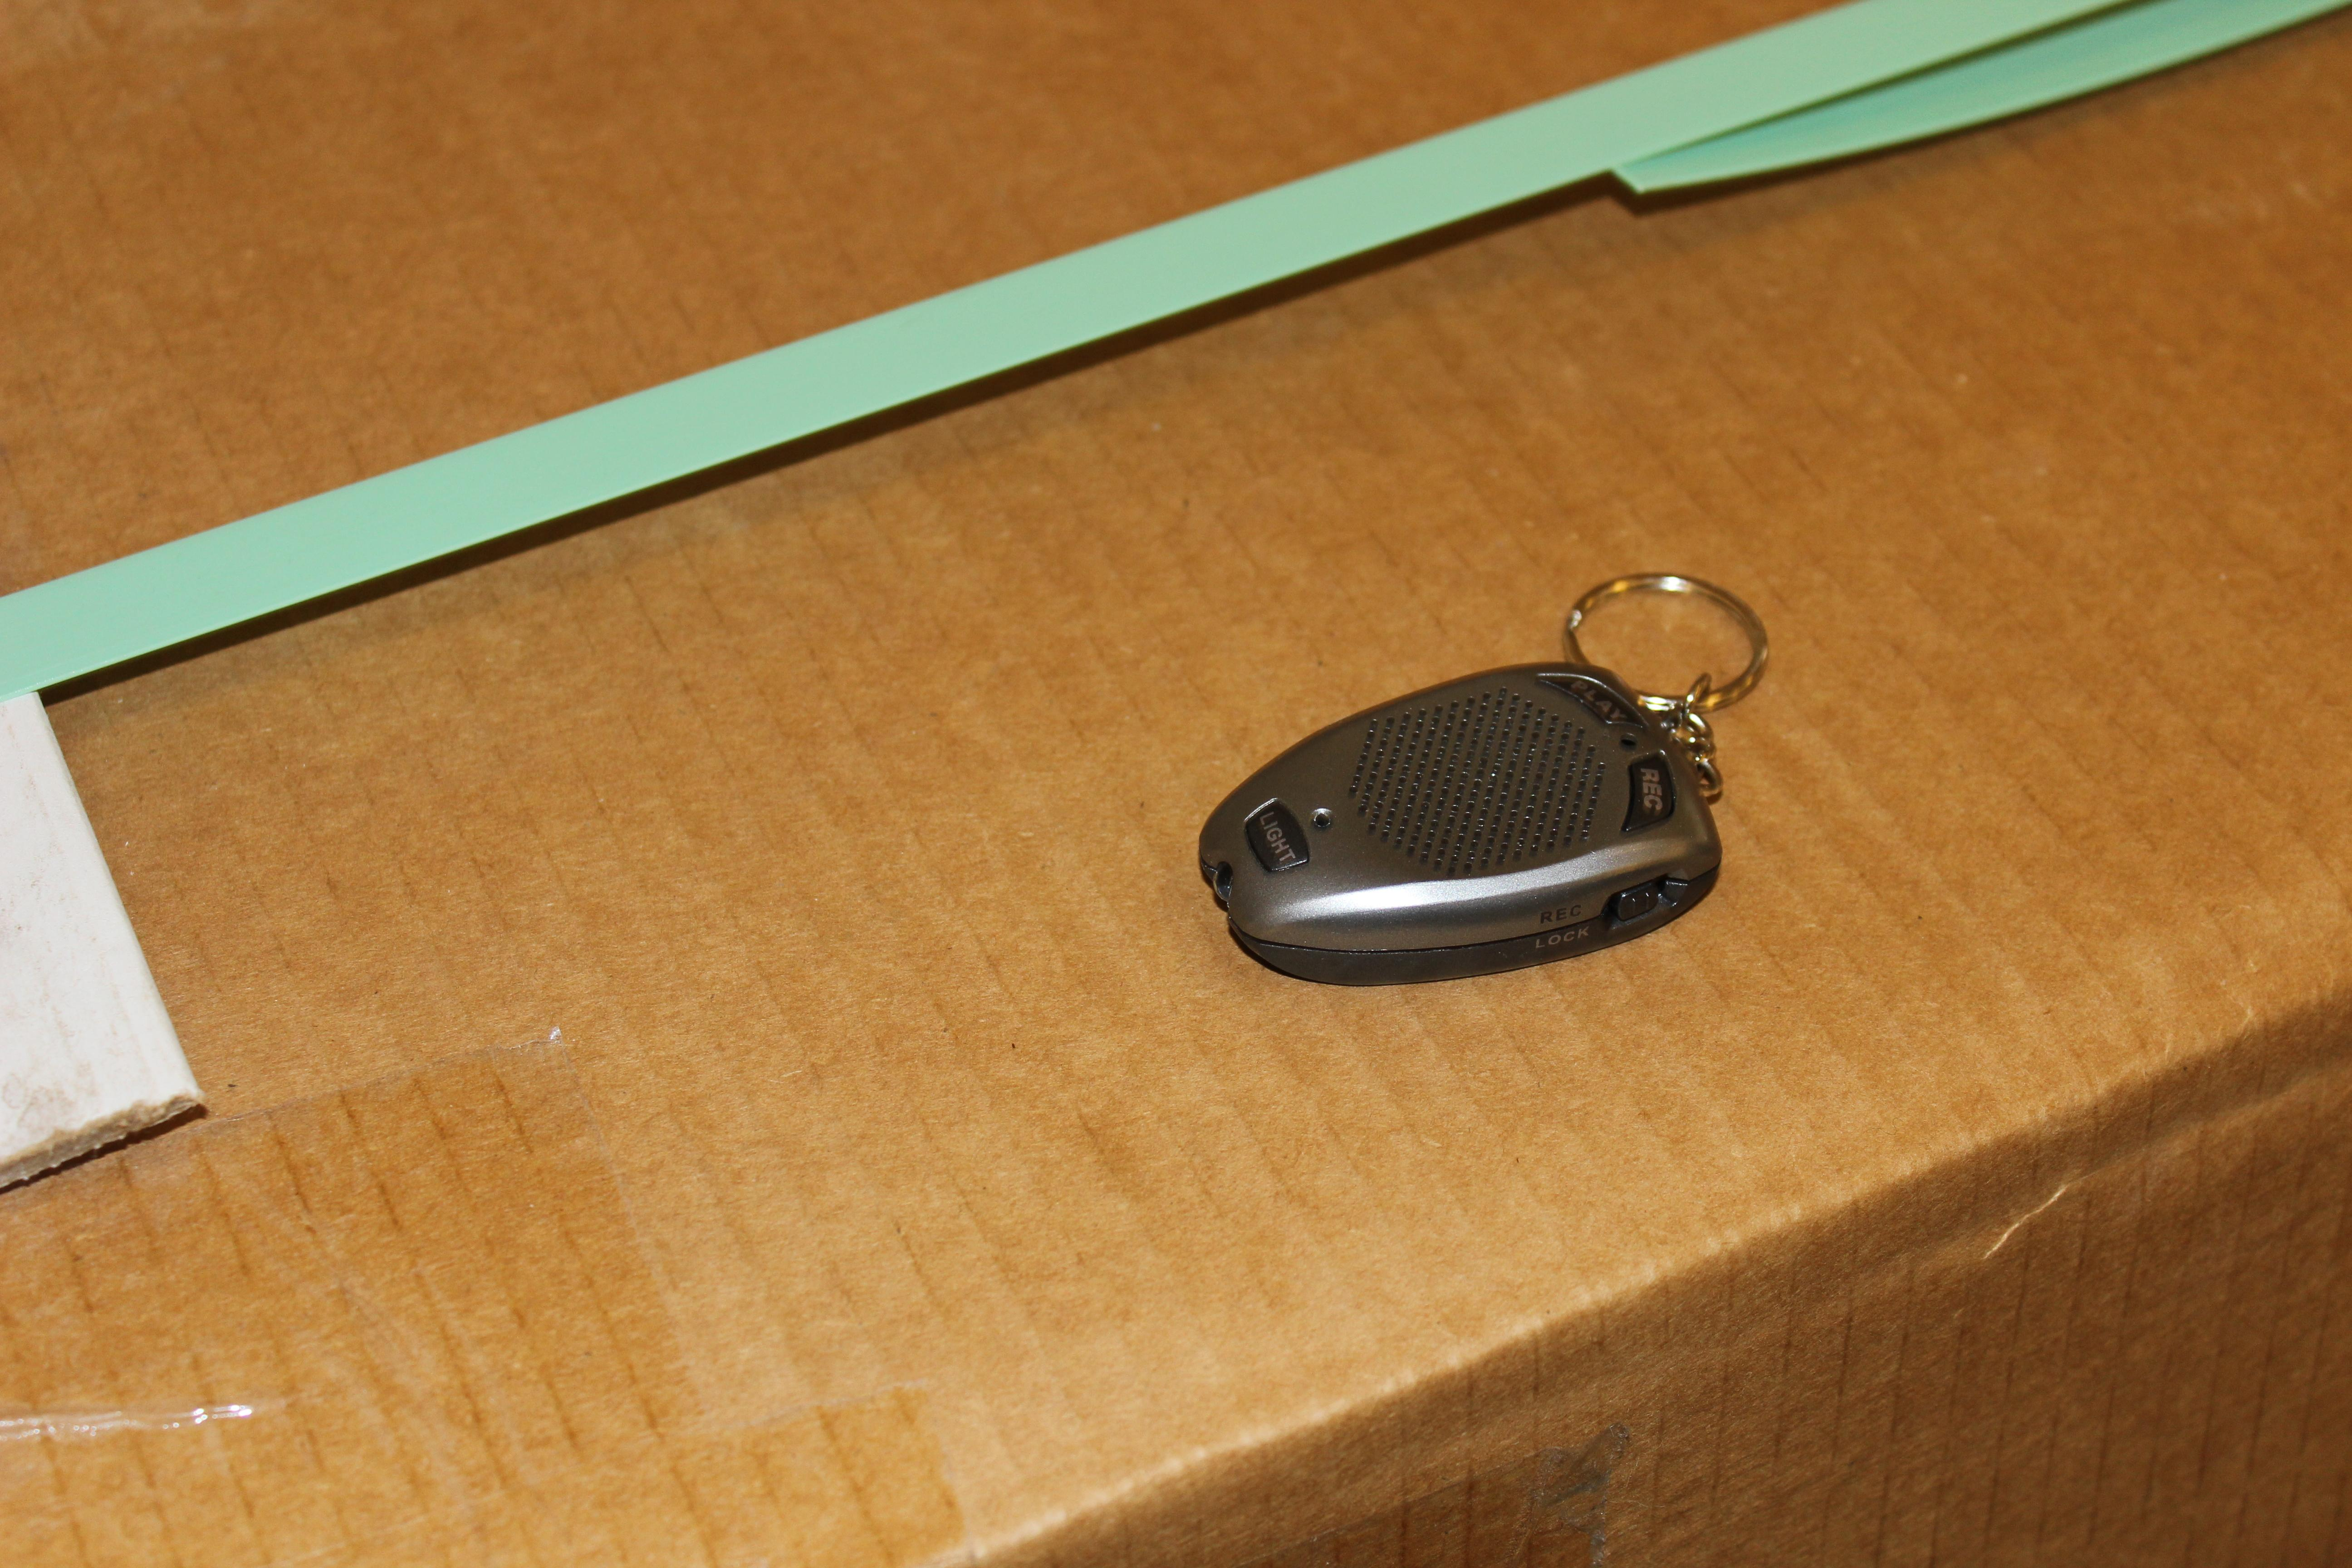voiceRecorder: (1158, 525, 1808, 1043)
